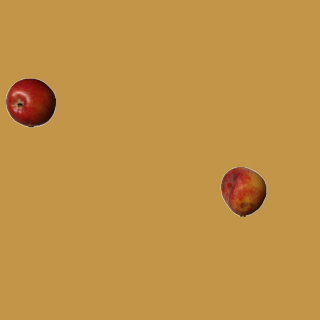Apple Braeburn: (5, 77, 55, 127)
Peach: (218, 166, 268, 216)
